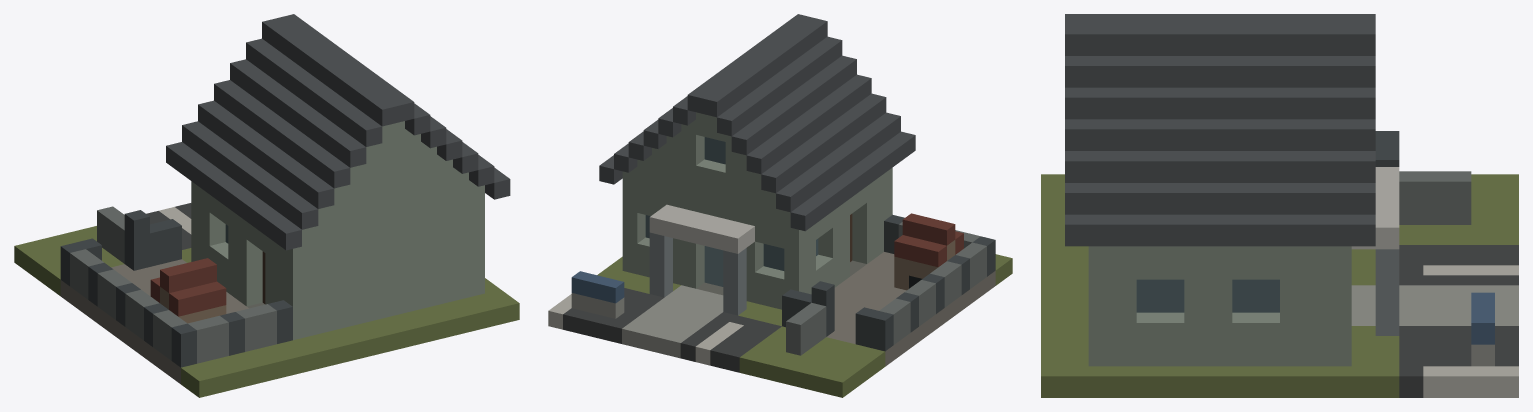
Rendered from Claude_veterinary_clinic.glb.
3 views of the same model, side by side, from view 1: azimuth 30°, elevation 25°; view 2: azimuth 150°, elevation 25°; view 3: azimuth 270°, elevation 25° (orthographic). The views are drawn at different scales.
Visible parts, largest first — view 1: Claude_veterinary_clinic; view 2: Claude_veterinary_clinic; view 3: Claude_veterinary_clinic.
Part boxes in pixels (left/top/right/bottom): Claude_veterinary_clinic: left=14, top=14, right=519, bottom=397; Claude_veterinary_clinic: left=548, top=14, right=1012, bottom=397; Claude_veterinary_clinic: left=1041, top=14, right=1518, bottom=397.
Bounding box in the file's own units: 10 × 7 × 10.
